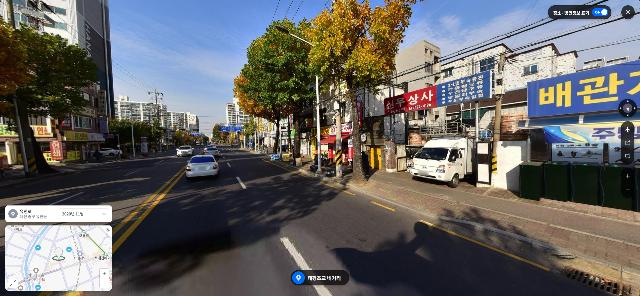ginkgo: (307, 0, 419, 183)
other: (0, 23, 106, 172), (234, 17, 316, 166), (233, 63, 284, 156), (108, 118, 143, 159), (136, 120, 163, 152)
